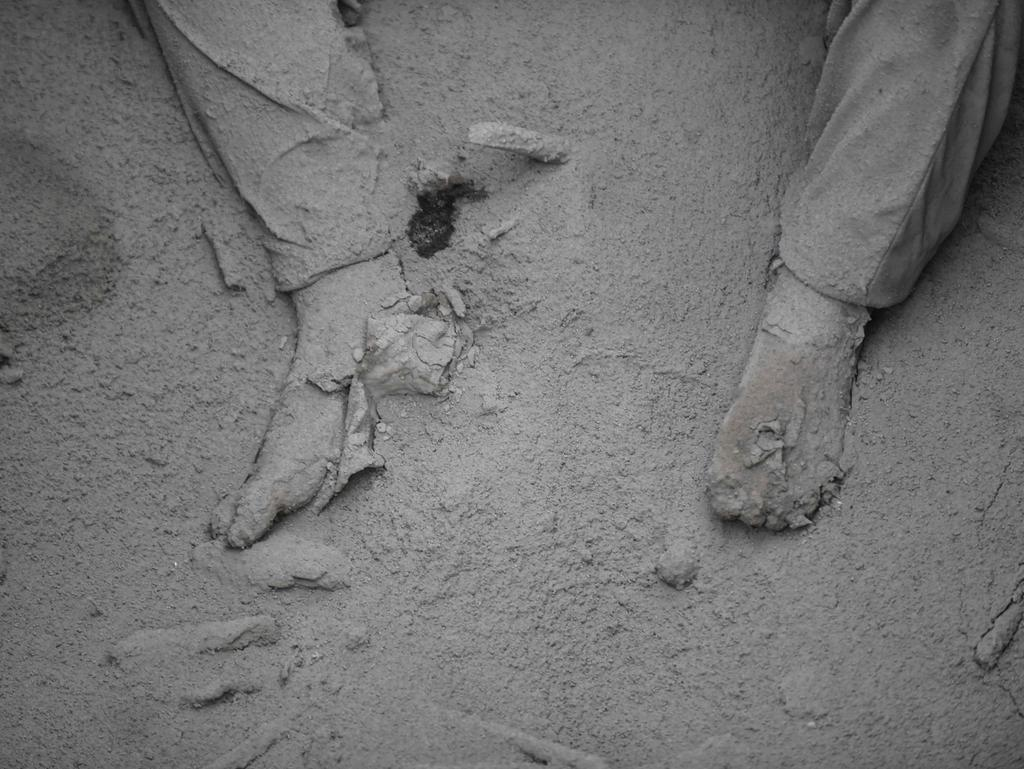Korban: (130, 0, 465, 553), (702, 0, 1024, 534)
